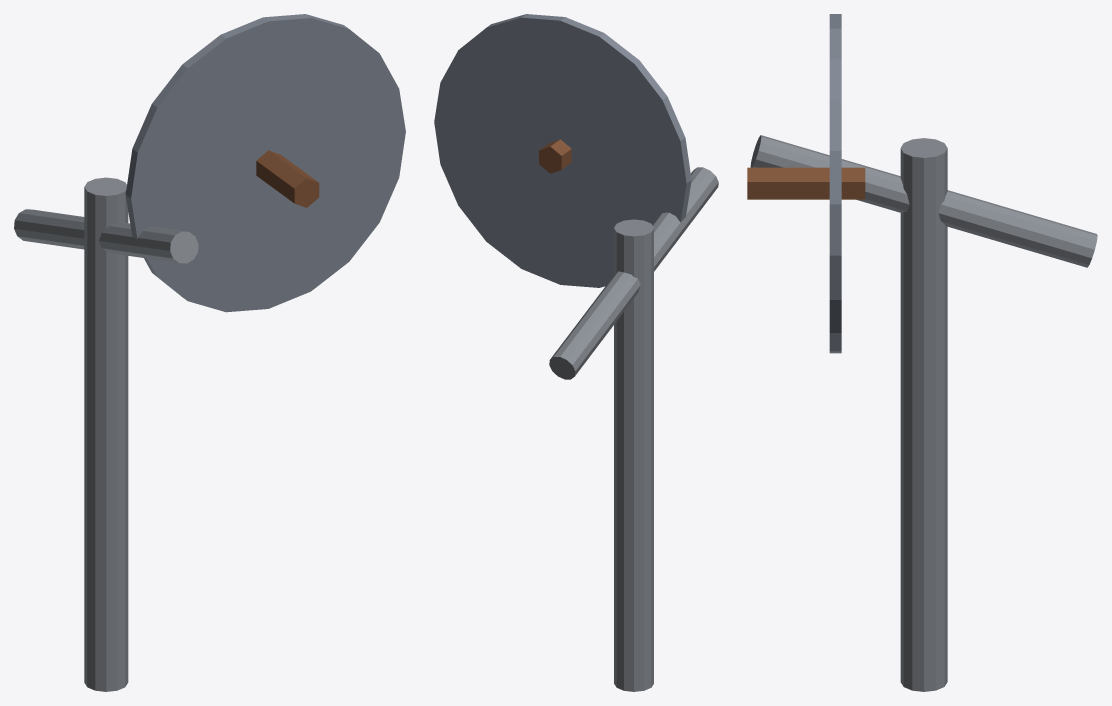
Rendered from DETAIL_Satellite_Dish_SM.glb.
3 views of the same model, side by side, from view 1: azimuth 30°, elevation 25°; view 2: azimuth 150°, elevation 25°; view 3: azimuth 270°, elevation 25° (orthographic). The views are drawn at different scales.
Parts seen in each view (by area): view 1: DETAIL_Satellite_Dish_SM; view 2: DETAIL_Satellite_Dish_SM; view 3: DETAIL_Satellite_Dish_SM.
Boxes of the visible parts, box(x1,y1,x2,y2) form: DETAIL_Satellite_Dish_SM: box(14, 14, 405, 691); DETAIL_Satellite_Dish_SM: box(434, 14, 718, 691); DETAIL_Satellite_Dish_SM: box(747, 14, 1097, 691).
Bounding box in the file's own units: 0.58 × 1.34 × 0.5946.
